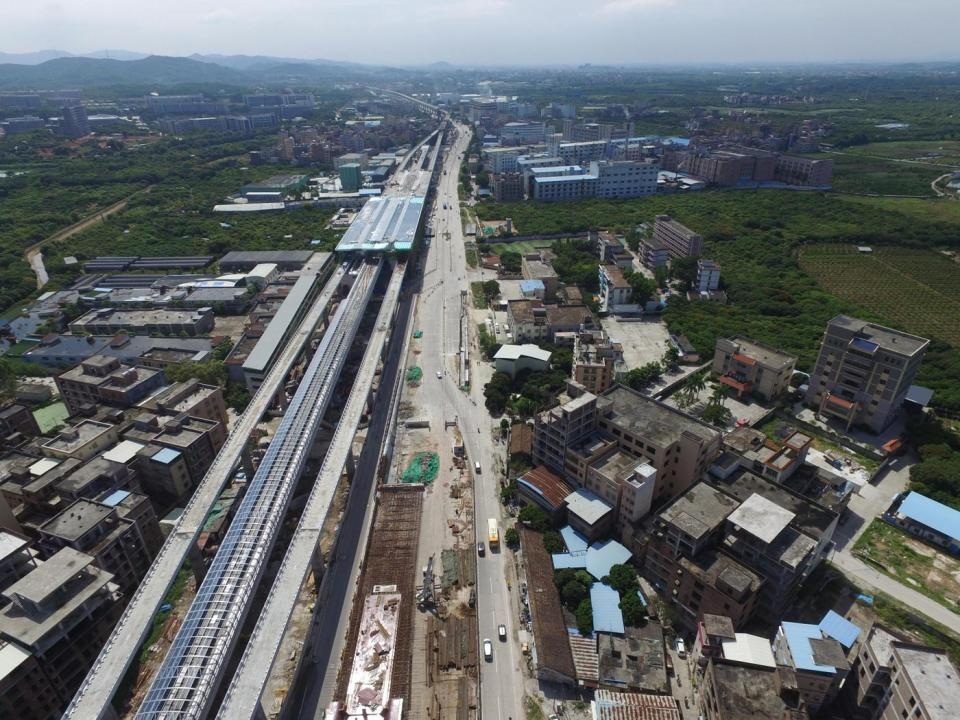bus: (487, 519, 499, 548)
car: (662, 653, 674, 674), (674, 637, 685, 657), (483, 638, 492, 658), (497, 623, 507, 639), (838, 514, 849, 526), (476, 540, 484, 556), (474, 461, 481, 472), (436, 372, 442, 378)
truck: (823, 454, 841, 468), (735, 418, 749, 427)
